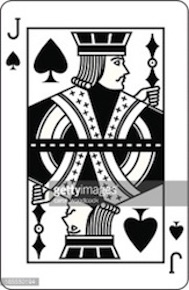JackOfSpades: (1, 1, 187, 288)
